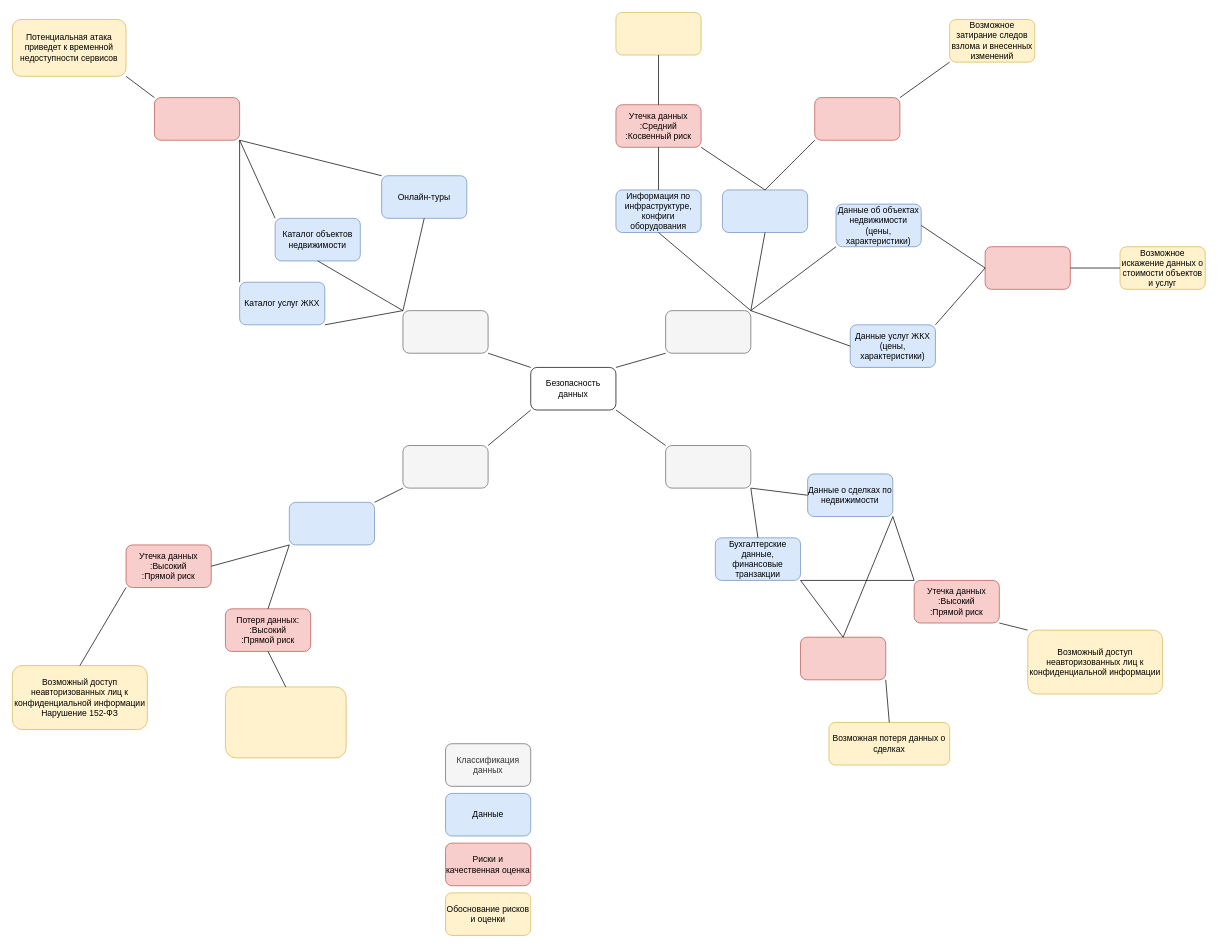
This 1218x948 diagram has some shape labels left out. The centre of each missing label's shape, as x and y in pixels:
"DDoS :Средний :Косвенный риск" belongs at [197,118].
"Внутренние данные" belongs at [708,331].
"Возможная потеря информации о клиентах и собственников" belongs at [285,722].
"Возможная эксплуатация уязвимостей" belongs at [658,33].
"Журналы логирования" belongs at [765,211].
"Искажение данных :Средний :Косвенный риск" belongs at [1027,267].
"Конфиденциальные данные" belongs at [445,466].
"Персональные данные клиентов и собственников" belongs at [332,523].
"Потеря данных :Высокий :Прямой риск" belongs at [843,658].
"Потеря данных :Низкий :Косвенный риск" belongs at [857,118].
"Публичные данные" belongs at [445,331].
"Секретные данные" belongs at [708,466].
